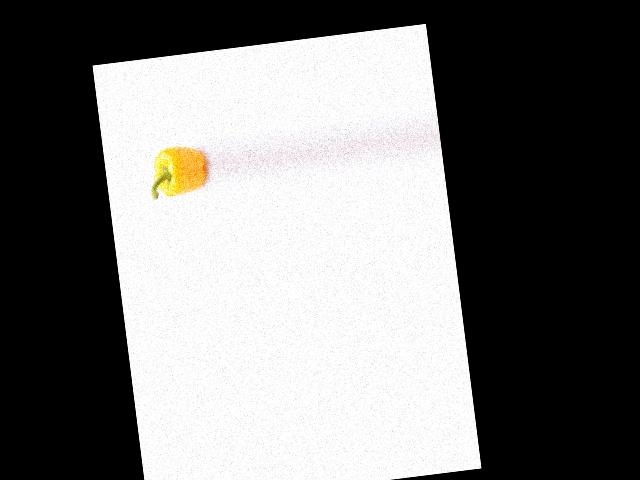bell_pepper: (147, 138, 210, 201)
